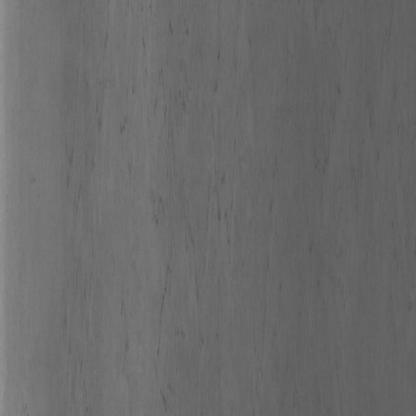silk_spot: (113, 33, 308, 366)
